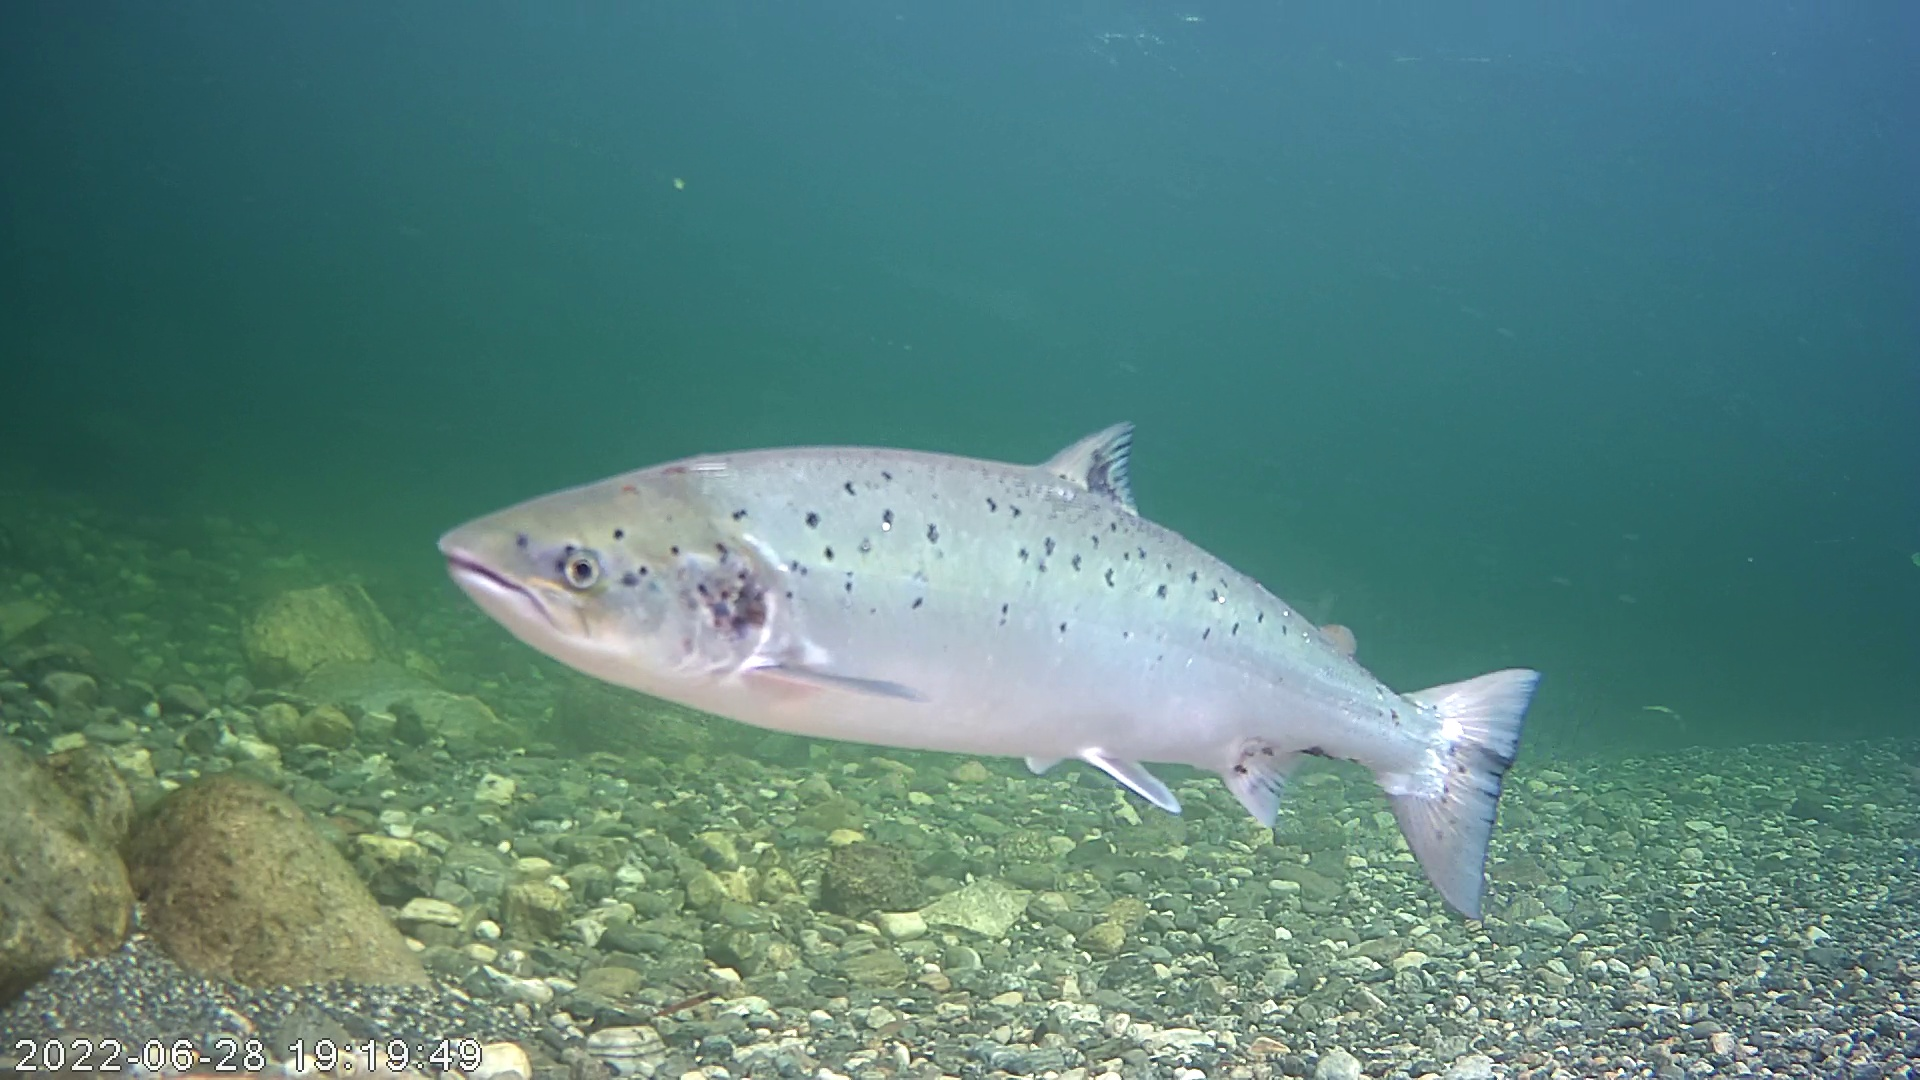salmon: (460, 316, 1560, 952)
